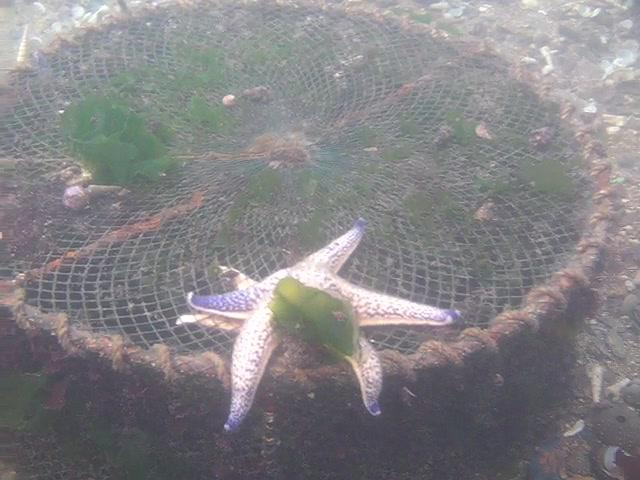circular fish trap: (0, 1, 614, 405)
